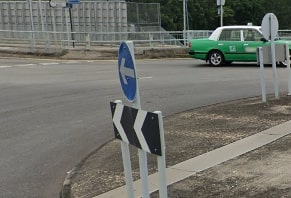Turn Left: (111, 37, 139, 99)
Turn Left(quick): (108, 102, 160, 159)
